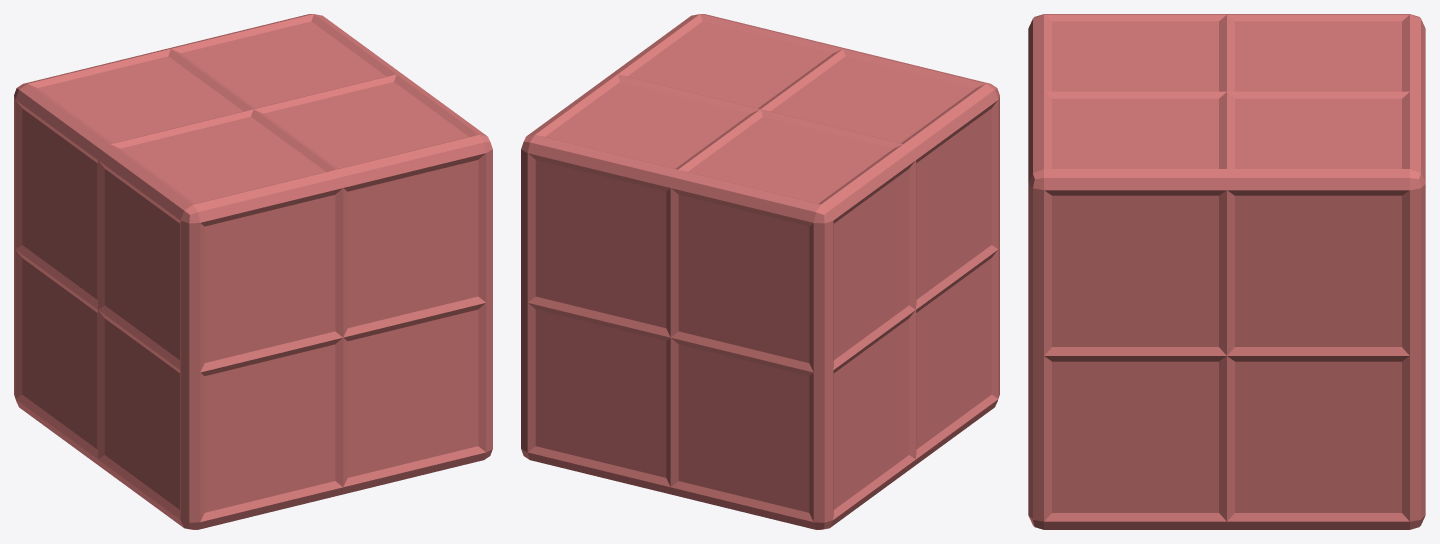
The model's file is SM_DEF_Barricade_Wooden_LG.fbx.
3 renders of one model, left to right at view 1: azimuth 30°, elevation 25°; view 2: azimuth 150°, elevation 25°; view 3: azimuth 270°, elevation 25°, orthographic. The views are drawn at different scales.
Visible parts, largest first — view 1: SM_DEF_Barricade_Wooden_LG; view 2: SM_DEF_Barricade_Wooden_LG; view 3: SM_DEF_Barricade_Wooden_LG.
Boxes of the visible parts, box(x1,y1,x2,y2) form: SM_DEF_Barricade_Wooden_LG: box(14, 14, 492, 529); SM_DEF_Barricade_Wooden_LG: box(521, 14, 999, 529); SM_DEF_Barricade_Wooden_LG: box(1028, 14, 1425, 529).
Size of what is drawn, in the model's own units: 2.5 by 2.5 by 2.5.
